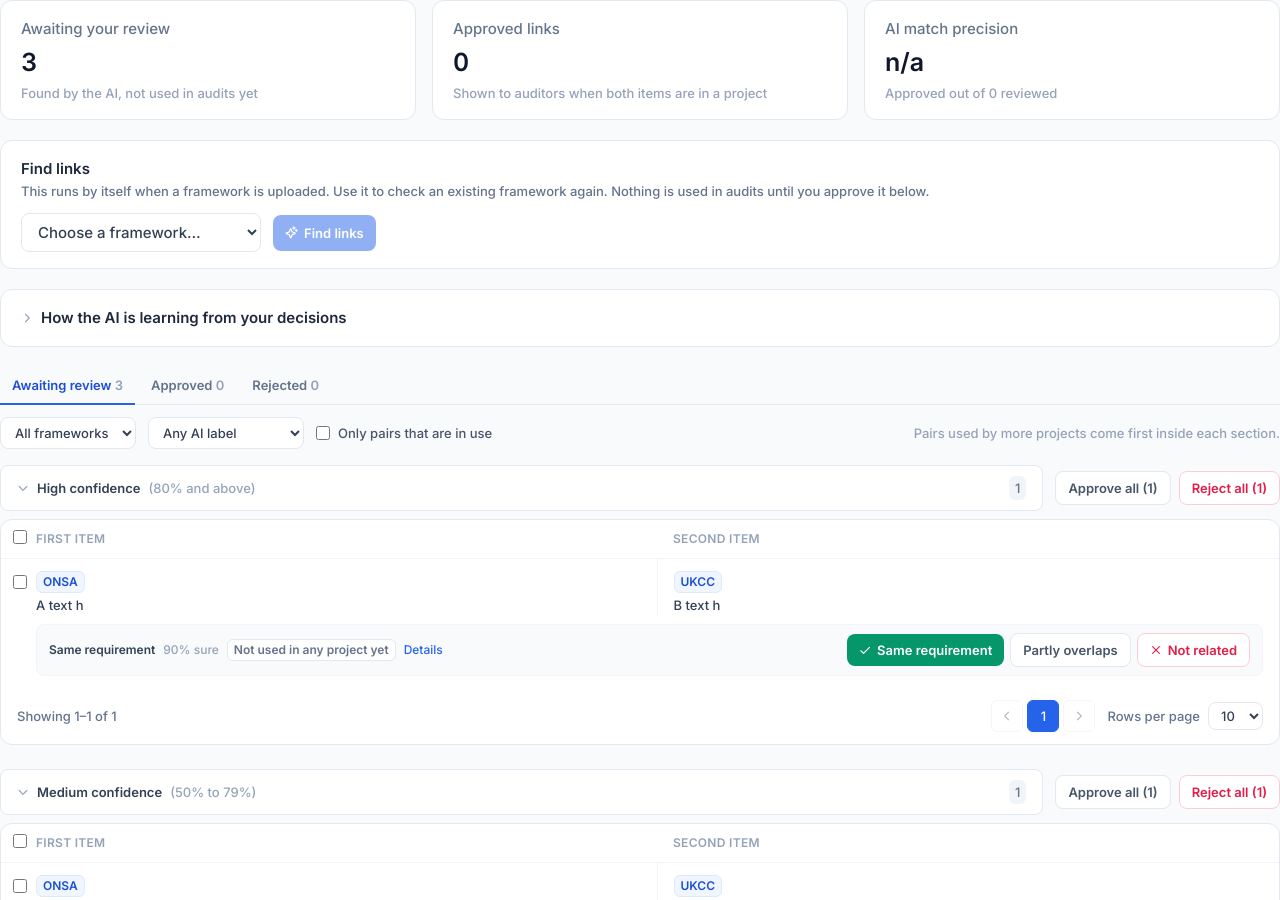
Test case: LinkedItemsPanel sections › collapses one section without touching the others, and opens it again
The width and height of the screenshot is (1280, 900).
Click the button "Medium confidence (50% to 79%) 1".
click(100, 792)  # box [0, 769, 1043, 815]
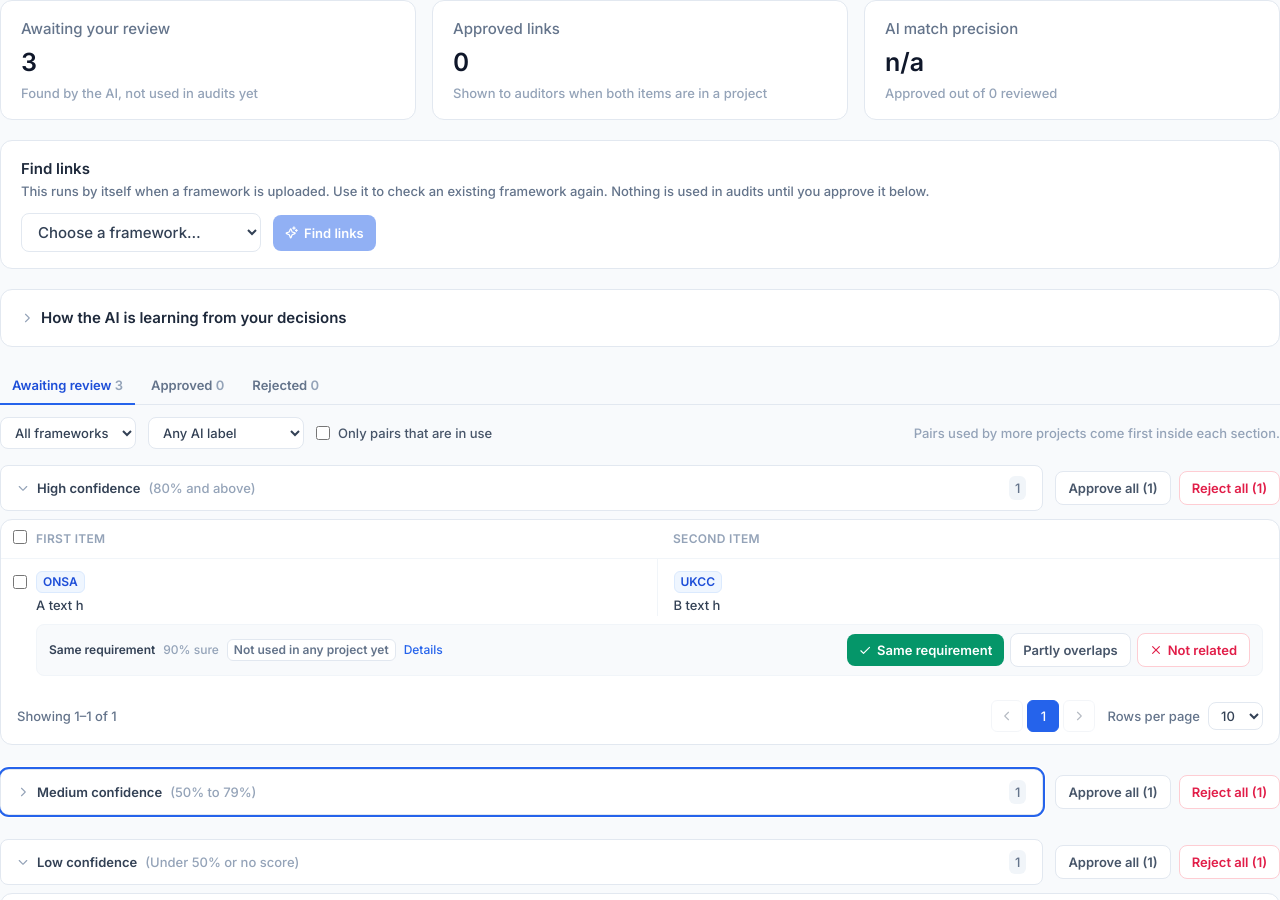
Expected: the text "A text h" is shown, [36, 597, 84, 613]
Expected: the 2nd text "1" is shown, [1009, 780, 1026, 804]
Click the button "Medium confidence (50% to 79%) 1".
click(100, 792)  # box [0, 769, 1043, 815]
(page scrolled)
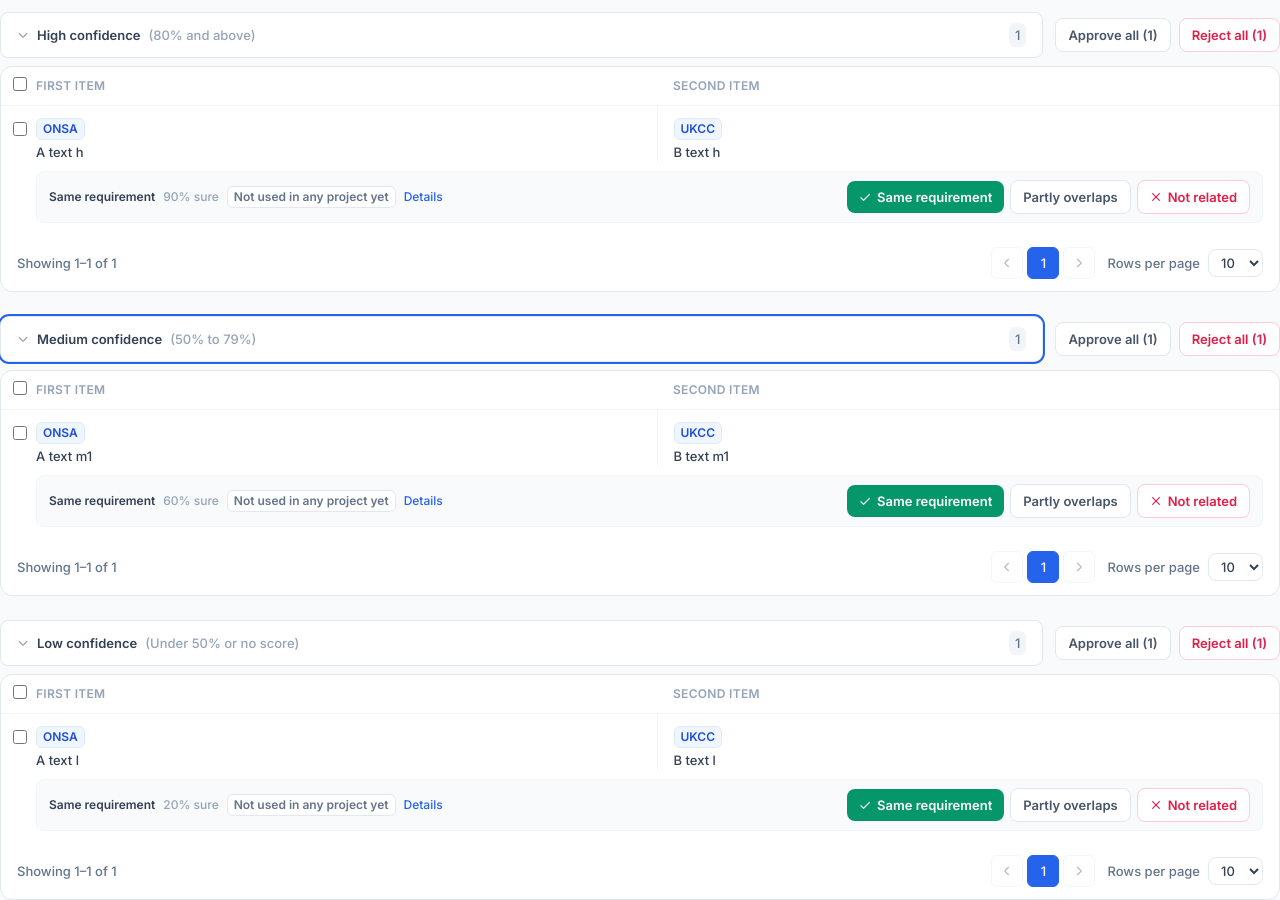
Expected: the text "A text m1" is shown, [36, 448, 92, 464]
